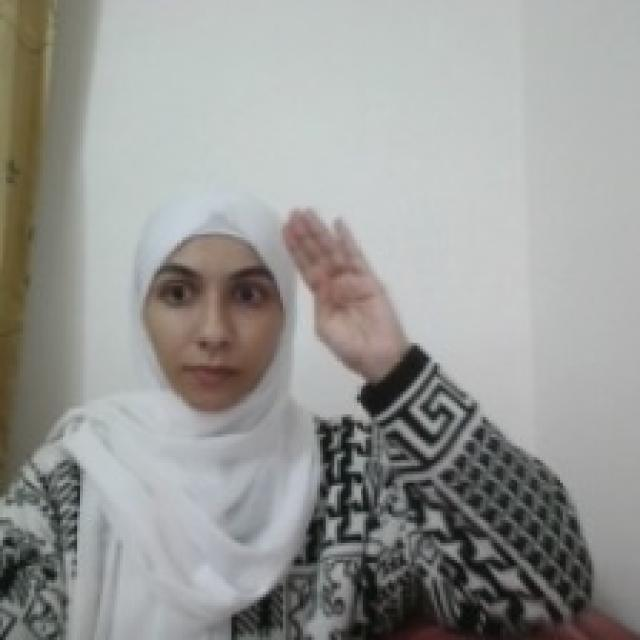Thanks: (276, 200, 406, 381)
